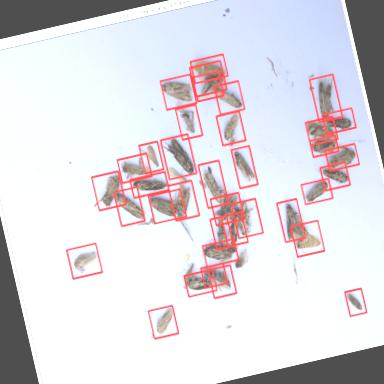pbw: (308, 289, 368, 339), (106, 239, 154, 297), (20, 294, 56, 360), (100, 191, 150, 236), (134, 312, 166, 368), (310, 229, 362, 263), (302, 336, 356, 362), (74, 353, 112, 384), (269, 354, 308, 370)
